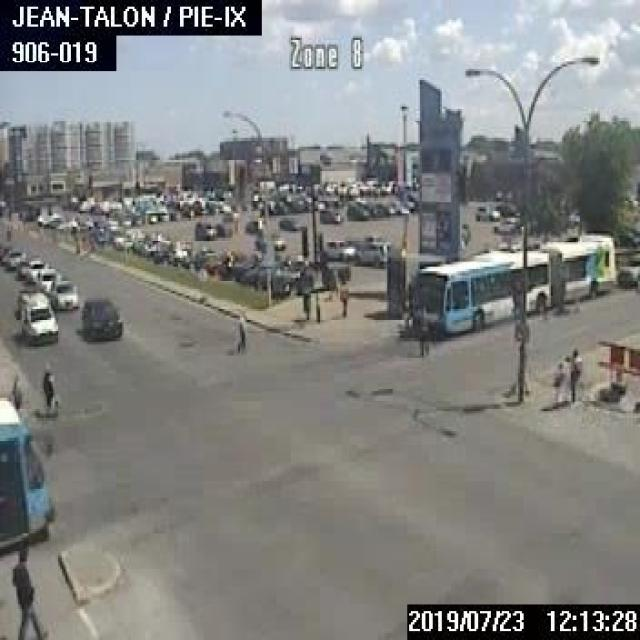bus: (406, 228, 616, 338), (0, 391, 56, 562)
construction: (596, 340, 638, 408)
pedestrian: (10, 540, 43, 638), (566, 347, 582, 409), (38, 365, 58, 411), (415, 311, 432, 358), (552, 355, 567, 403), (7, 371, 24, 413), (234, 304, 247, 354), (338, 278, 347, 322), (300, 284, 309, 318), (459, 221, 469, 246)
vehicle: (17, 291, 58, 342), (80, 296, 122, 340), (354, 240, 392, 266), (49, 280, 78, 308), (617, 251, 638, 287), (111, 226, 144, 248), (25, 257, 49, 283), (36, 266, 58, 294), (322, 239, 353, 258), (491, 216, 522, 233), (255, 230, 283, 248), (2, 248, 24, 269), (276, 213, 305, 228), (474, 202, 499, 219), (193, 219, 216, 237), (494, 200, 519, 215), (386, 197, 408, 212), (318, 207, 341, 221), (244, 216, 265, 231), (363, 199, 382, 214), (346, 204, 366, 216), (379, 198, 395, 213), (12, 256, 24, 274), (215, 223, 231, 234), (222, 210, 238, 218)
